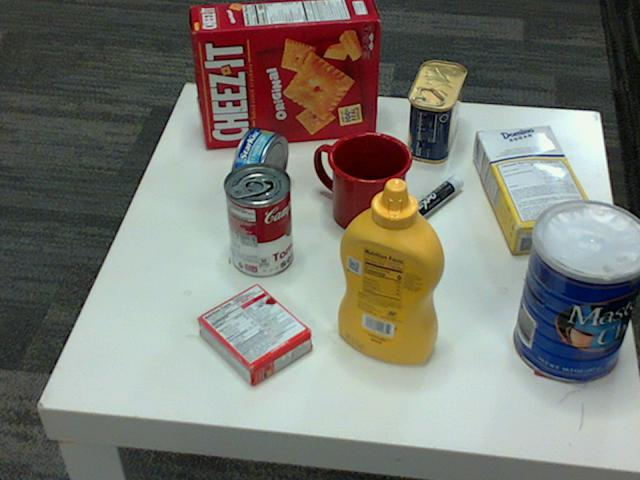cracker_box: (191, 0, 377, 146)
gelatin_box: (194, 283, 308, 387)
large_marker: (390, 178, 463, 236)
master_chef_can: (515, 200, 639, 383)
mug: (314, 130, 412, 233)
mustard_bottle: (337, 179, 444, 364)
potted_meat_can: (406, 62, 464, 163)
sugar_box: (473, 126, 599, 254)
tomato_soup_can: (223, 163, 292, 277)
tuna_fish_can: (229, 127, 287, 205)
